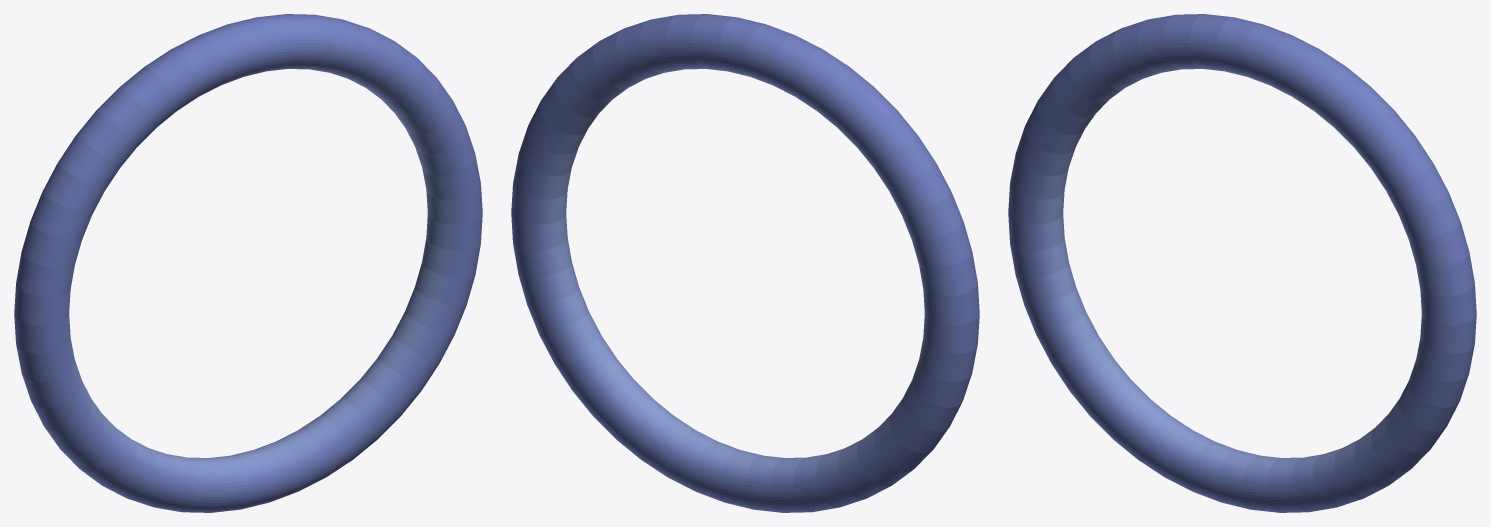
The picture shows the model from 3 angles, left to right: view 1: azimuth 30°, elevation 25°; view 2: azimuth 150°, elevation 25°; view 3: azimuth 330°, elevation 25°; orthographic projection.
Visible parts, largest first — view 1: world; view 2: world; view 3: world.
Boxes of the visible parts, left/top/right/bottom form: world: left=14, top=14, right=482, bottom=512; world: left=511, top=14, right=979, bottom=512; world: left=1008, top=14, right=1476, bottom=512.
Bounding box in the file's own units: 24.53 × 24.48 × 2.53.
